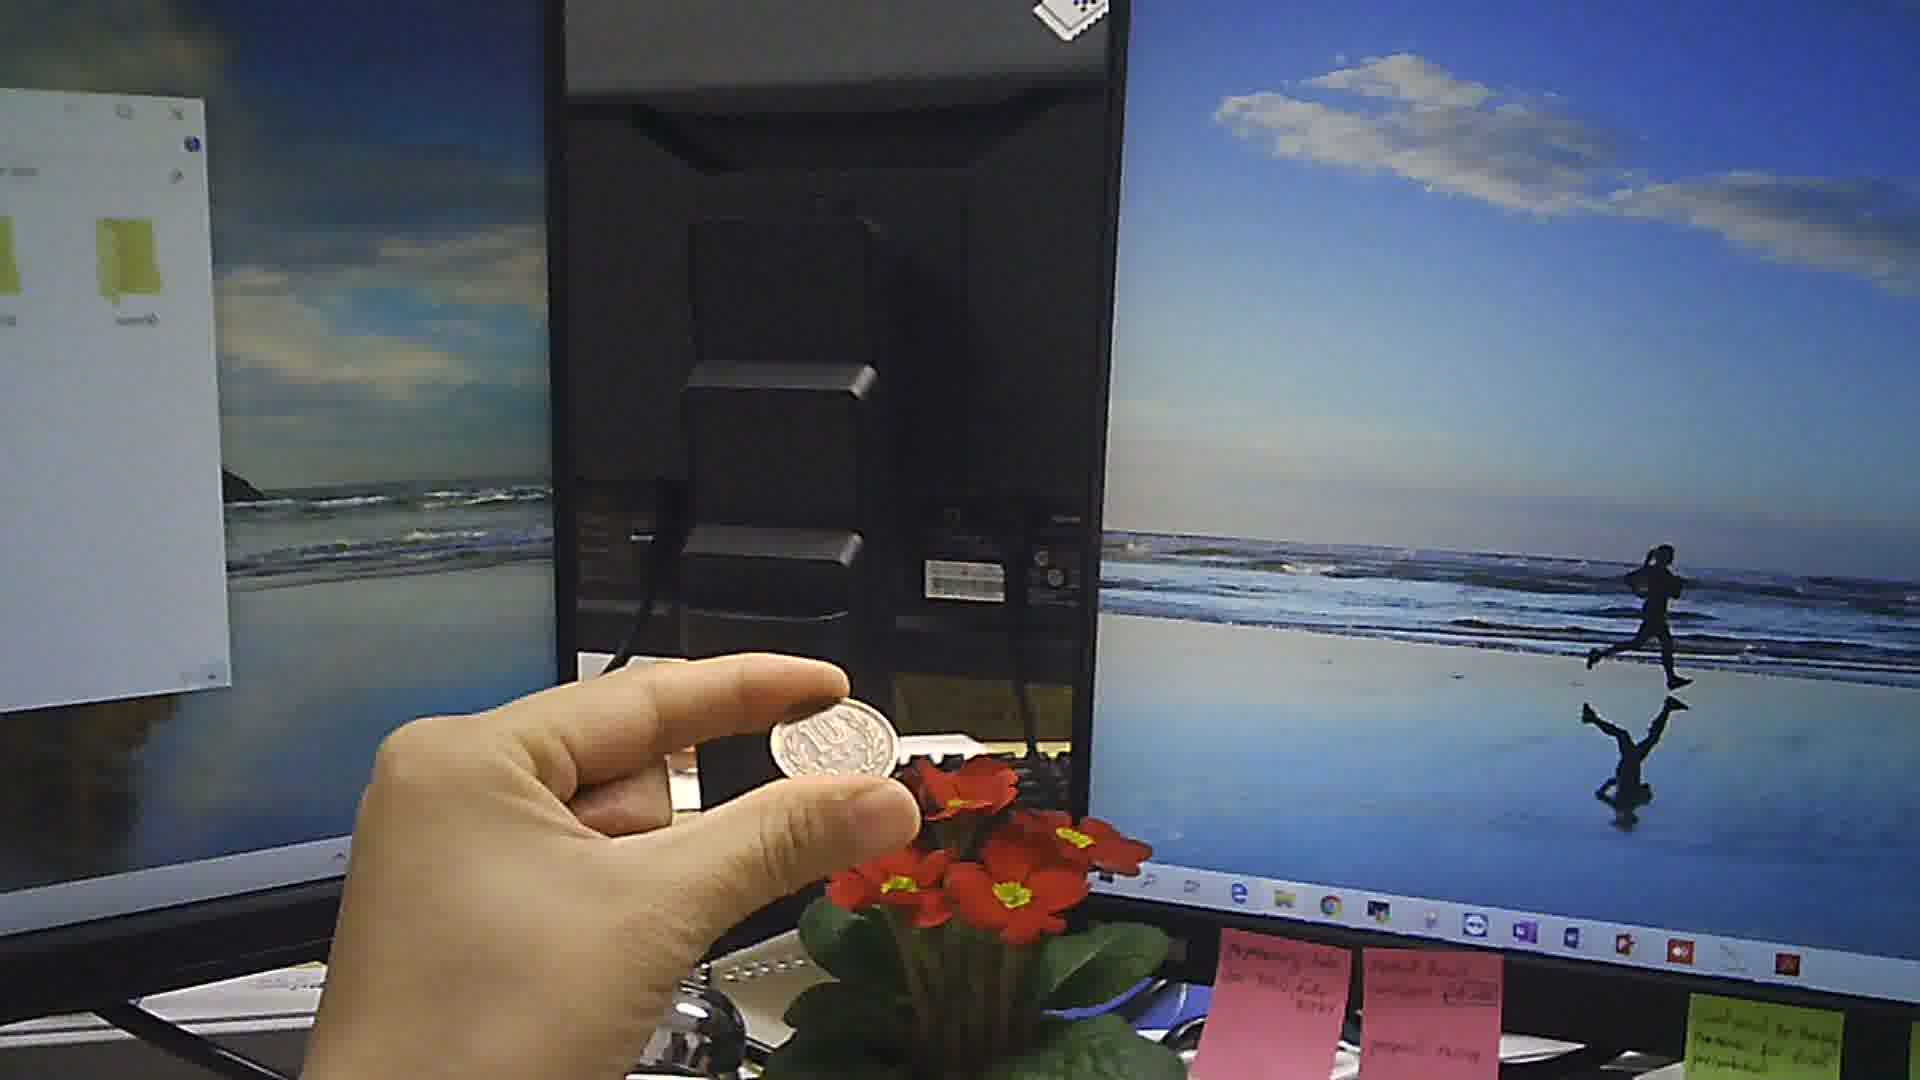10 Yen: (764, 683, 905, 787)
